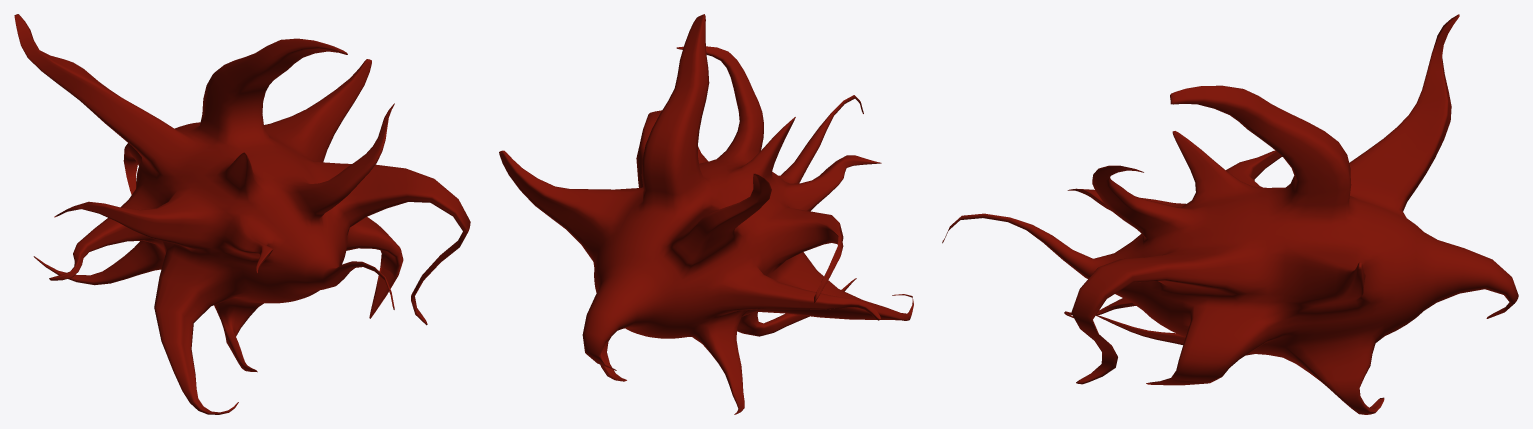
The model's file is platelet.glb.
3 renders of one model, left to right at view 1: azimuth 30°, elevation 25°; view 2: azimuth 150°, elevation 25°; view 3: azimuth 270°, elevation 25°, orthographic. The views are drawn at different scales.
Visible parts, largest first — view 1: Sphere002; view 2: Sphere002; view 3: Sphere002.
Part boxes in pixels (<box>): Sphere002: <box>14,14,470,414</box>; Sphere002: <box>499,14,913,414</box>; Sphere002: <box>942,14,1518,414</box>.
Bounding box in the file's own units: 307 × 250 × 405.
